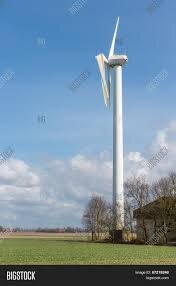faulty: (93, 15, 136, 112)
